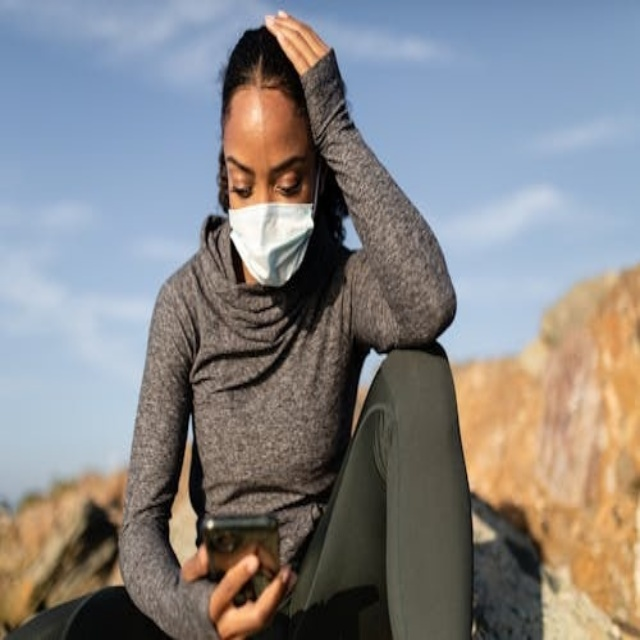Mascara: (227, 166, 319, 286)
Sin_gafas: (224, 150, 310, 206)
Sin_guantes: (179, 540, 297, 634), (259, 6, 329, 67)
